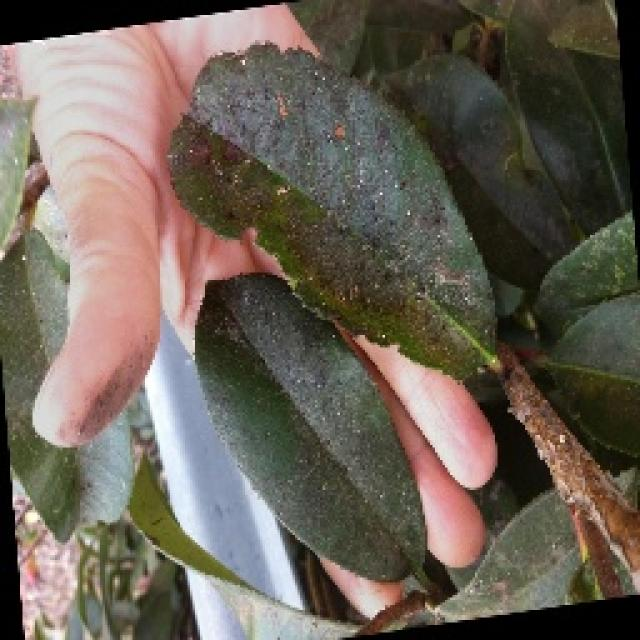Sooty Mold: (165, 38, 503, 380)
